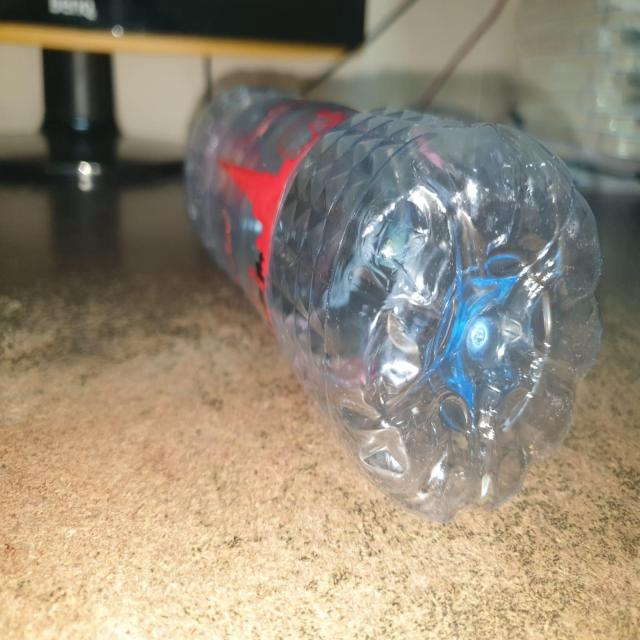bottle: (178, 77, 598, 534)
